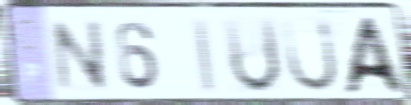6: (114, 20, 162, 93)
A: (338, 14, 410, 96)
I: (192, 15, 217, 96)
N: (50, 18, 111, 96)
U: (220, 15, 284, 97), (280, 16, 341, 96)
